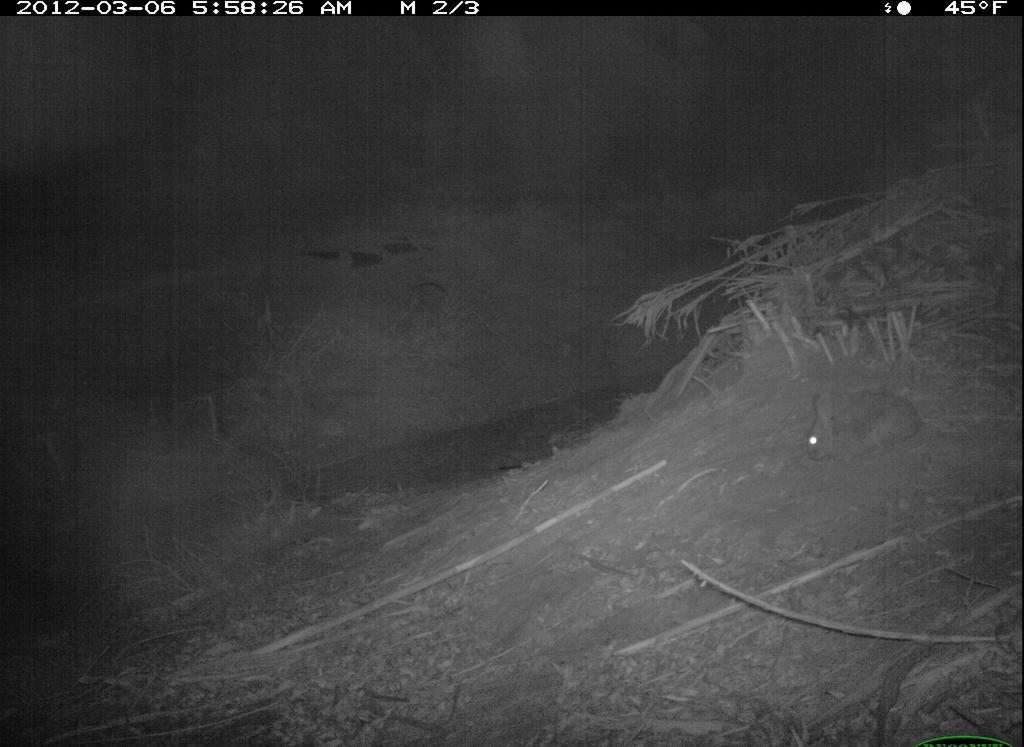rabbit: (801, 383, 925, 468)
